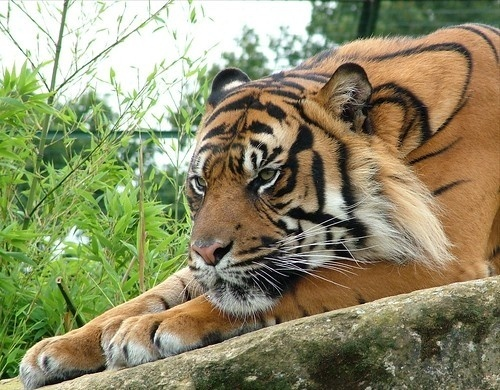tigre: (19, 21, 500, 389)
